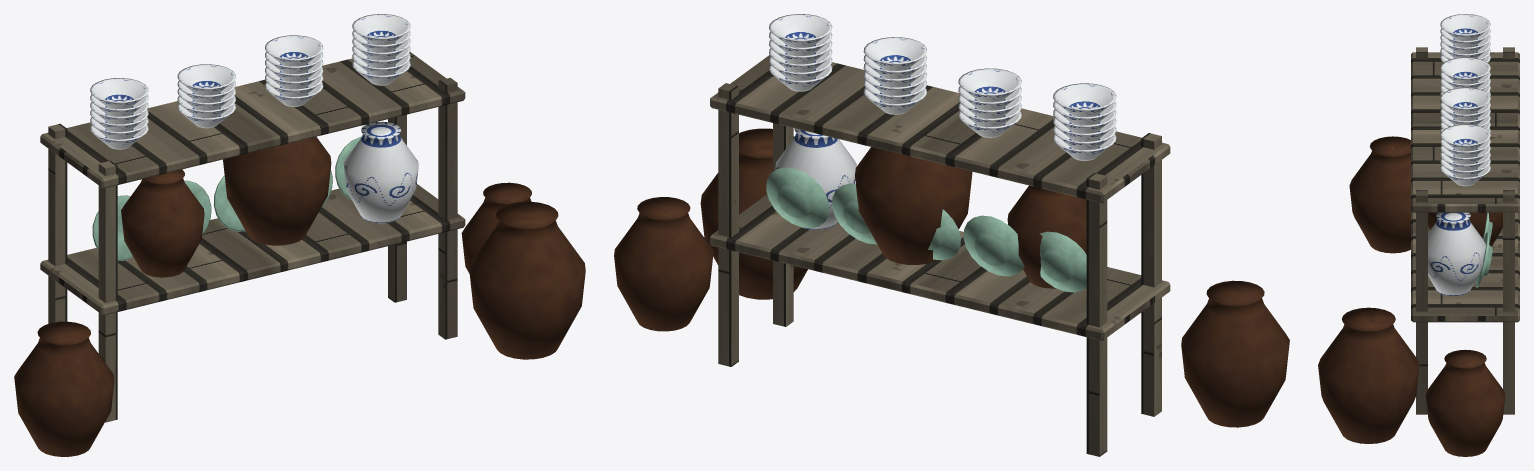
File: pottery_stack.glb
3 views of the same model, side by side, from view 1: azimuth 30°, elevation 25°; view 2: azimuth 150°, elevation 25°; view 3: azimuth 270°, elevation 25° (orthographic). The views are drawn at different scales.
Parts seen in each view (by area): view 1: PotteryShelf, Stoneware, BlueWhite, CeladonPlates; view 2: PotteryShelf, Stoneware, BlueWhite, CeladonPlates; view 3: Stoneware, PotteryShelf, BlueWhite, CeladonPlates.
Boxes of the visible parts, left/top/right/bottom form: PotteryShelf: left=40, top=52, right=465, bottom=422; Stoneware: left=14, top=136, right=585, bottom=456; BlueWhite: left=90, top=14, right=418, bottom=223; CeladonPlates: left=92, top=136, right=361, bottom=260; PotteryShelf: left=710, top=55, right=1170, bottom=456; Stoneware: left=614, top=128, right=1289, bottom=427; BlueWhite: left=769, top=14, right=1116, bottom=229; CeladonPlates: left=766, top=167, right=1086, bottom=292; Stoneware: left=1318, top=136, right=1505, bottom=456; PotteryShelf: left=1411, top=47, right=1519, bottom=414; BlueWhite: left=1428, top=14, right=1490, bottom=295; CeladonPlates: left=1475, top=212, right=1492, bottom=287.
Size of what is drawn, in the model's own units: 2.34 by 1.18 by 0.835.
4 materials, 4 textured.
